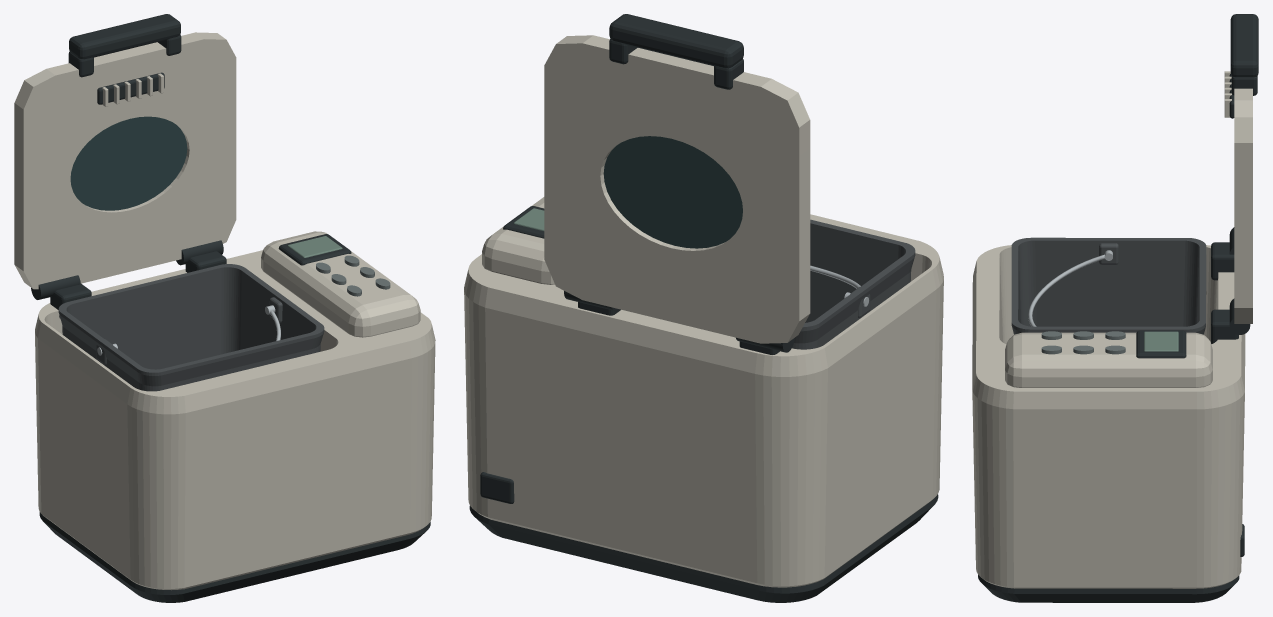
The picture shows the model from 3 angles, left to right: view 1: azimuth 30°, elevation 25°; view 2: azimuth 150°, elevation 25°; view 3: azimuth 270°, elevation 25°; orthographic projection. The views are drawn at different scales.
Visible parts, largest first — view 1: Intact rounded housing and chamber floor, Open oval window lid frame, Closed walled empty loaf pan, Opaque inset oval viewing pane, Raised right control pod, Stepped closed base, Lid top carry grip, Lid vent recess backing, Inset LCD surround, Blank inset LCD, Rear hinge support -0.145, Lid hinge barrel -0.145 (+1 smaller); view 2: Intact rounded housing and chamber floor, Open oval window lid frame, Opaque inset oval viewing pane, Closed walled empty loaf pan, Stepped closed base, Lid top carry grip, Raised right control pod, Generic rear blind power inlet; view 3: Intact rounded housing and chamber floor, Closed walled empty loaf pan, Raised right control pod, Open oval window lid frame, Stepped closed base, Lid top carry grip, Inset LCD surround, Rear hinge support -0.145, Blank inset LCD, Rear hinge support 0.035, Lowered wire loaf pan bail.
Part boxes in pixels (x1,y1,x2,y2): Intact rounded housing and chamber floor: (35,250,435,590); Open oval window lid frame: (14,32,236,289); Closed walled empty loaf pan: (58,264,324,391); Opaque inset oval viewing pane: (70,116,187,210); Raised right control pod: (261,231,420,337); Stepped closed base: (39,512,430,602); Lid top carry grip: (69,14,180,59); Lid vent recess backing: (97,72,164,104); Inset LCD surround: (278,234,351,265); Blank inset LCD: (288,236,342,257); Rear hinge support -0.145: (50,283,91,318); Lid hinge barrel -0.145: (31,275,80,299); Intact rounded housing and chamber floor: (464,214,943,587); Open oval window lid frame: (544,35,810,343); Opaque inset oval viewing pane: (603,136,742,248); Closed walled empty loaf pan: (792,219,915,349); Stepped closed base: (469,494,938,602); Lid top carry grip: (609,14,743,68); Raised right control pod: (482,197,554,284); Generic rear blind power inlet: (480,472,514,503); Intact rounded housing and chamber floor: (972,245,1245,588); Closed walled empty loaf pan: (1011,237,1206,334); Raised right control pod: (1005,332,1212,387); Open oval window lid frame: (1234,88,1252,323); Stepped closed base: (978,575,1239,602); Lid top carry grip: (1230,14,1258,77); Inset LCD surround: (1136,330,1186,358); Rear hinge support -0.145: (1211,242,1234,280); Blank inset LCD: (1144,331,1178,351); Rear hinge support 0.035: (1211,309,1238,343); Lowered wire loaf pan bail: (1028,254,1104,326).
Size of the model in its own units: 0.38 by 0.568 by 0.306.
